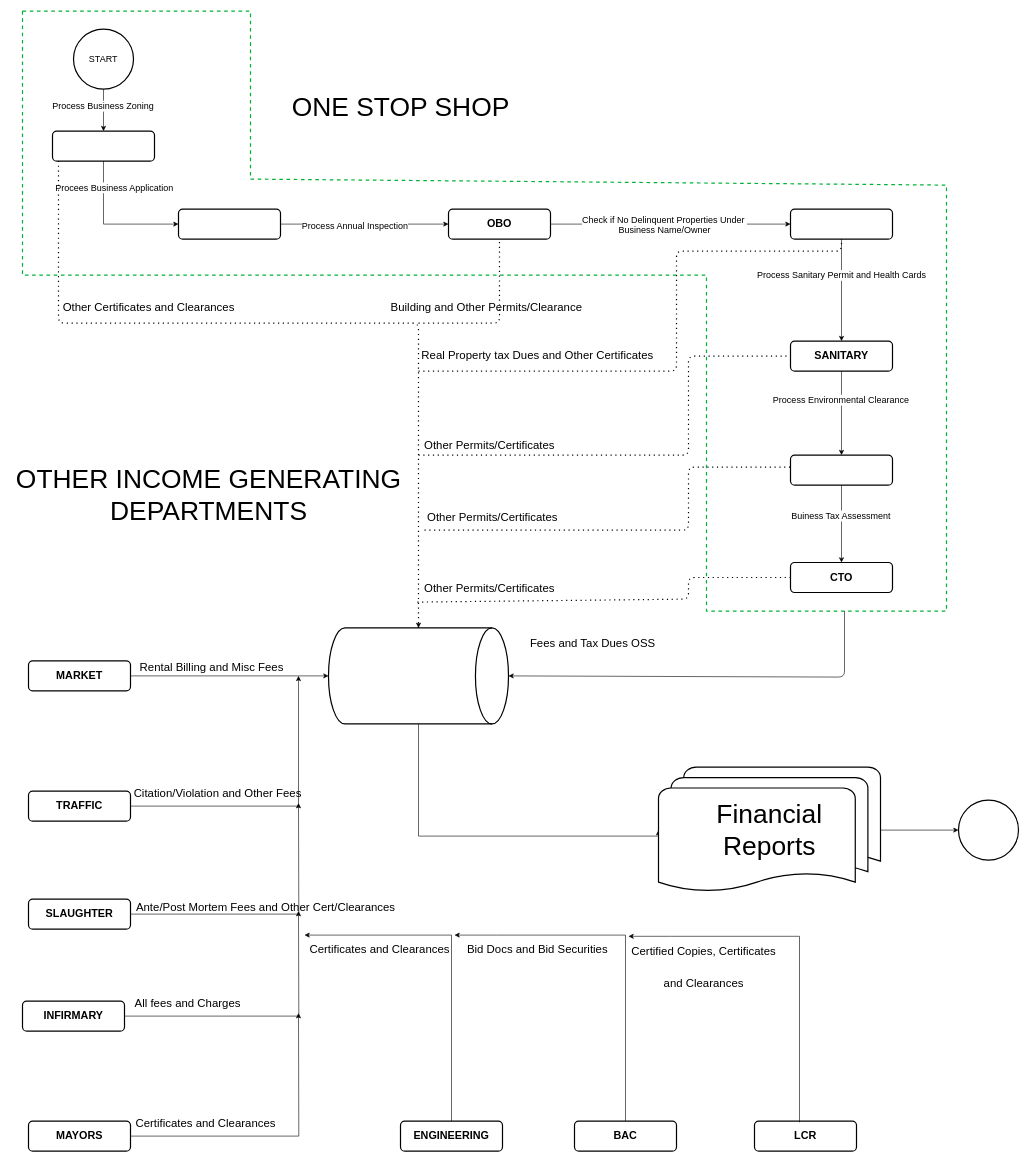
This 1029x1162 diagram has some shape labels left out. The box of each missing label's shape, as (x1, y1, x2, y2) in pixels:
ASSESSORS: (790, 208, 893, 239)
BPLO: (178, 208, 281, 239)
CENRO: (790, 454, 893, 485)
CPDC: (52, 130, 155, 161)
END: (958, 799, 1019, 860)
REVENUE COLLECTION: (328, 627, 509, 724)
